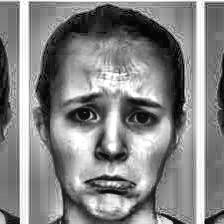sad: (51, 55, 174, 220)
